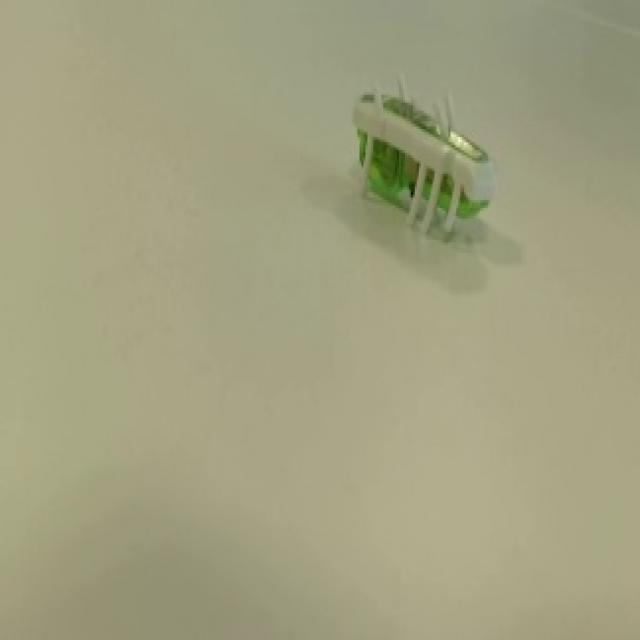4_NanoBug_Blanco: (326, 49, 523, 285)
